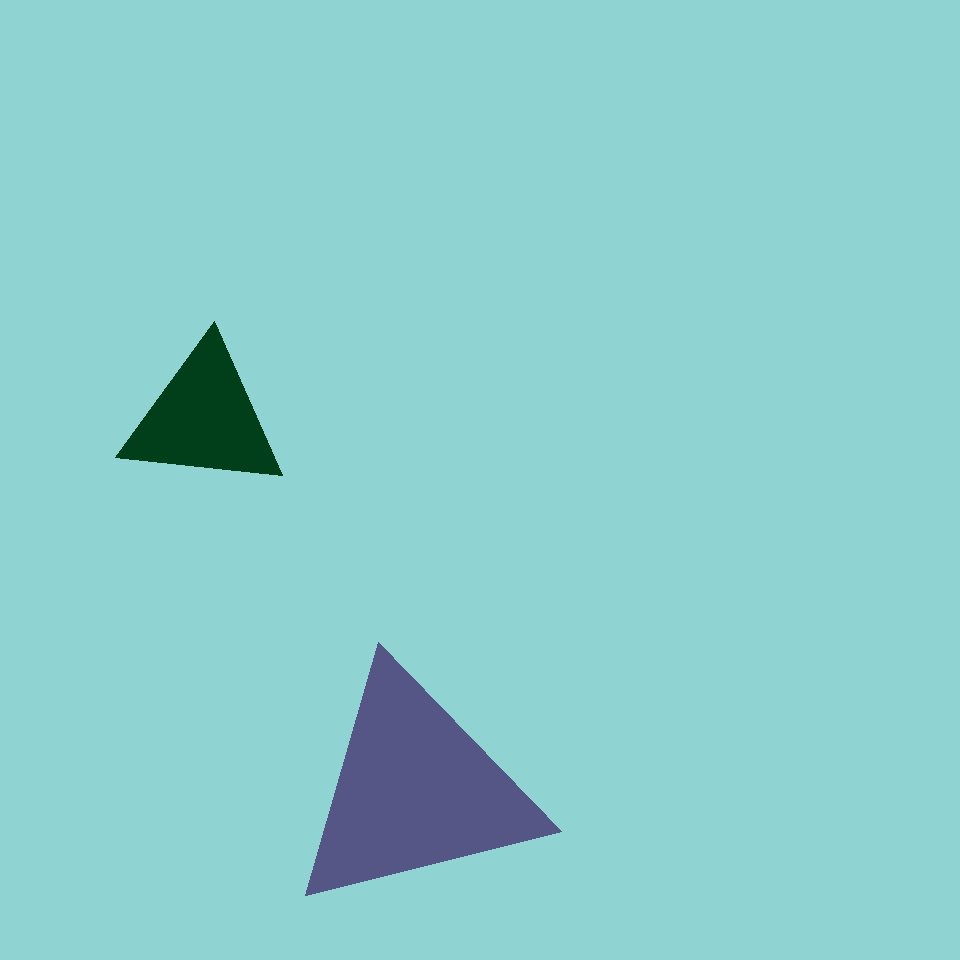circle: (287, 664, 543, 916), (120, 341, 287, 495), (687, 810, 822, 945)
square: (82, 581, 441, 940), (335, 222, 540, 427)
triangle: (560, 34, 834, 308), (652, 74, 754, 176)
